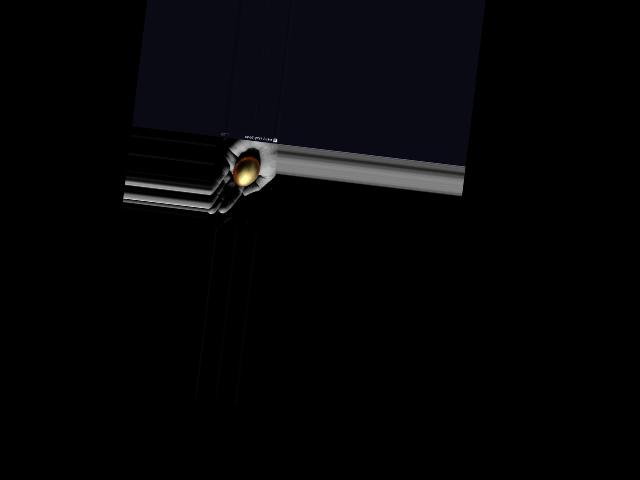egg: (231, 154, 260, 188)
